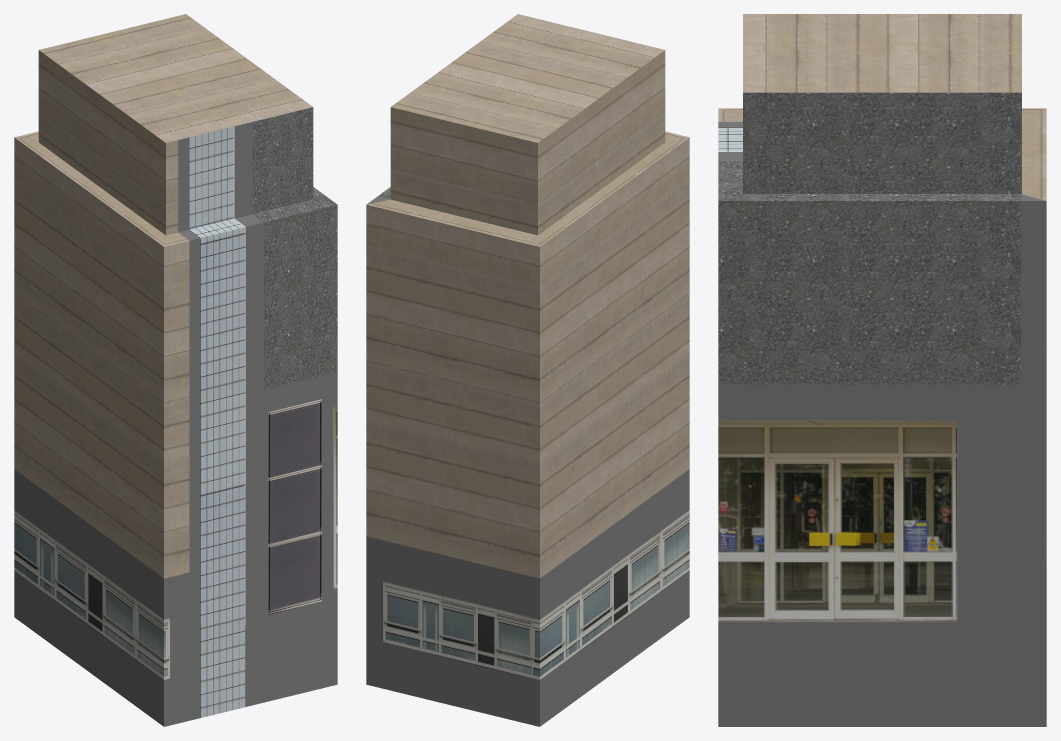
File: BuildingLow.fbx
The picture shows the model from 3 angles, left to right: view 1: azimuth 30°, elevation 25°; view 2: azimuth 150°, elevation 25°; view 3: azimuth 270°, elevation 25°; orthographic projection. The views are drawn at different scales.
Visible parts, largest first — view 1: Cube; view 2: Cube; view 3: Cube.
Part boxes in pixels (x1,y1,x2,y2): Cube: [14, 14, 337, 726]; Cube: [366, 14, 689, 726]; Cube: [718, 14, 1046, 726].
Size of the model in its own units: 1.34 by 4.22 by 2.
